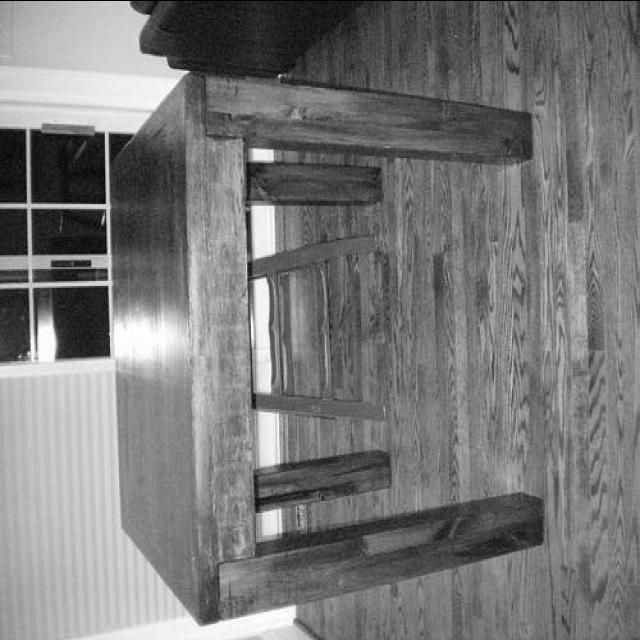table: (100, 66, 542, 628)
